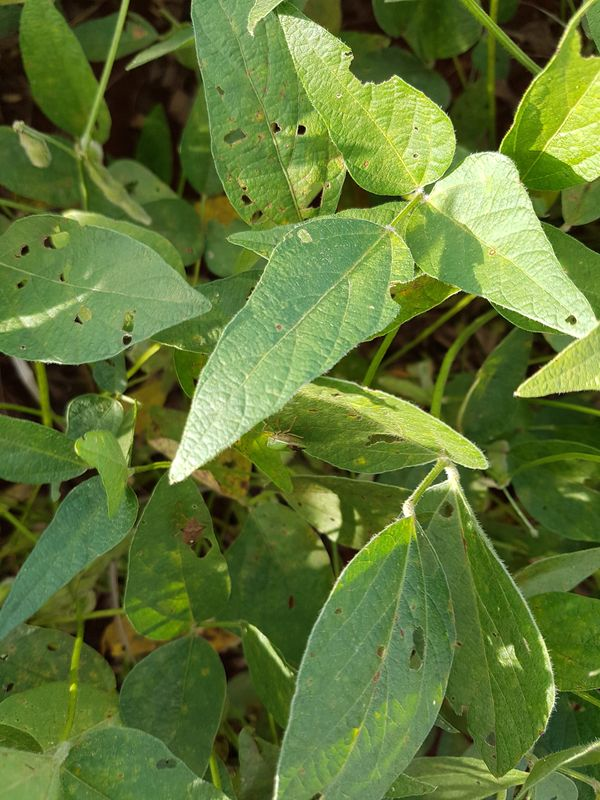Edessa_meditabunda: (253, 414, 316, 466)
Euschistus_heros_adulto: (169, 508, 213, 558)
